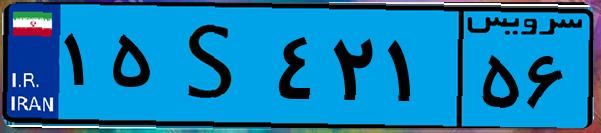1: (385, 28, 445, 110), (57, 26, 110, 100)
2: (330, 28, 385, 110)
4: (270, 28, 330, 110)
5: (475, 38, 525, 113), (110, 28, 158, 98)
6: (525, 38, 570, 115)
S: (158, 12, 270, 120)
